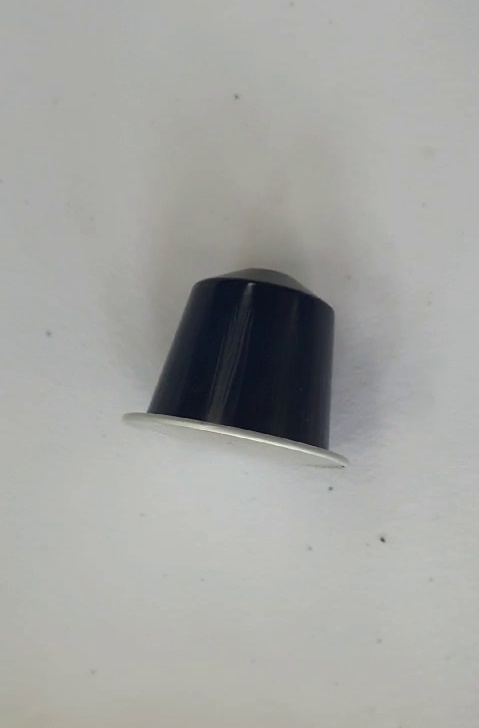capsule_1: (124, 265, 354, 476)
